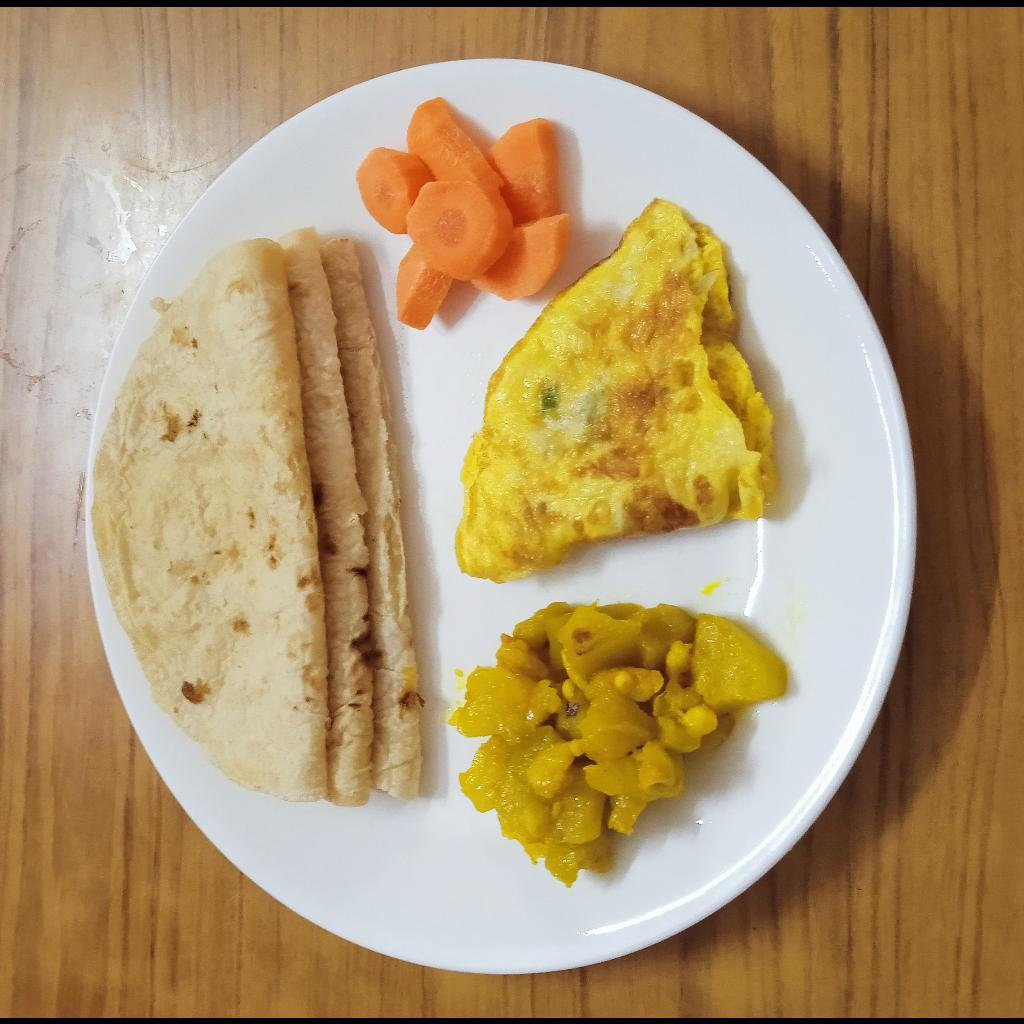carrot: (356, 93, 572, 331)
egg-poached: (452, 191, 779, 586)
potol: (446, 596, 783, 883)
ruti: (87, 225, 421, 805)
